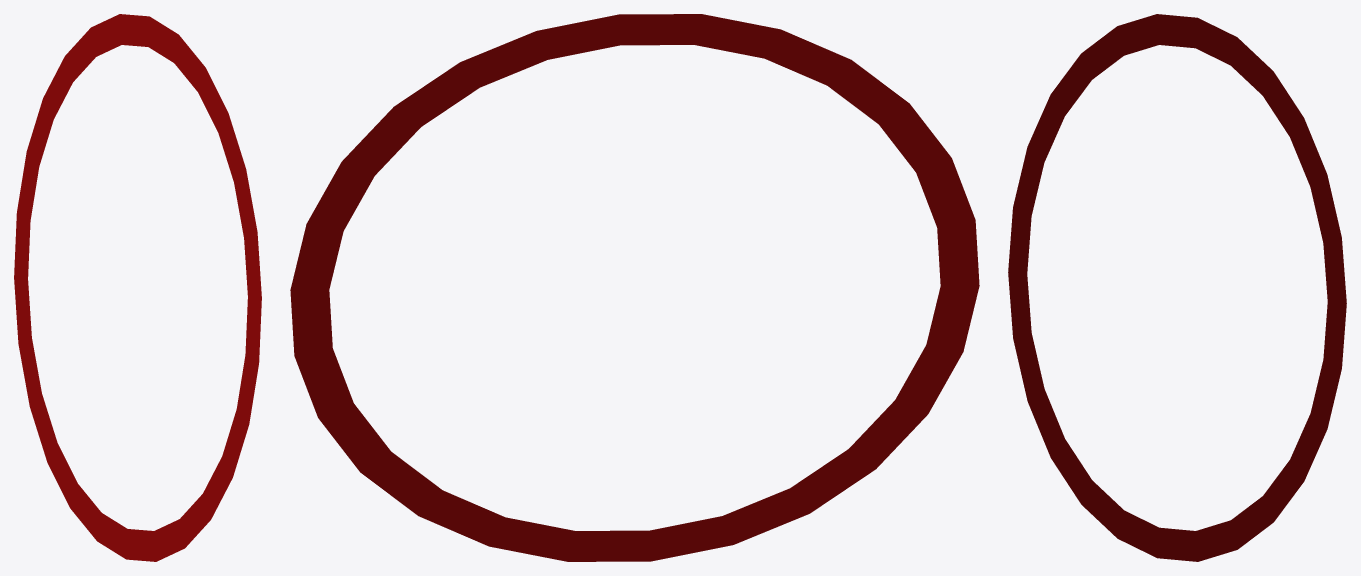
File: Spot.fbx
3 views of the same model, side by side, from view 1: azimuth 30°, elevation 25°; view 2: azimuth 150°, elevation 25°; view 3: azimuth 270°, elevation 25° (orthographic). The views are drawn at different scales.
Visible parts, largest first — view 1: Spot; view 2: Spot; view 3: Spot.
Part boxes in pixels (left/top/right/bottom): Spot: left=14, top=14, right=261, bottom=561; Spot: left=290, top=14, right=979, bottom=561; Spot: left=1008, top=14, right=1346, bottom=561.
Bounding box in the file's own units: 5.11 × 6.09 × 3.86.
